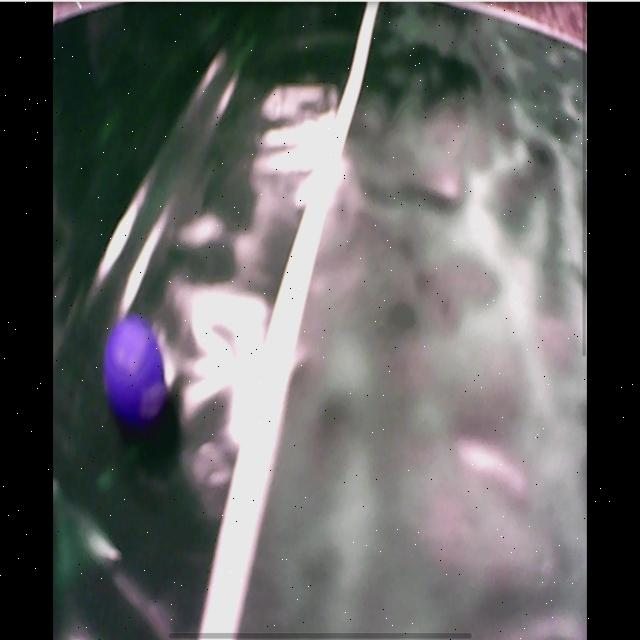ball: (104, 319, 165, 418)
